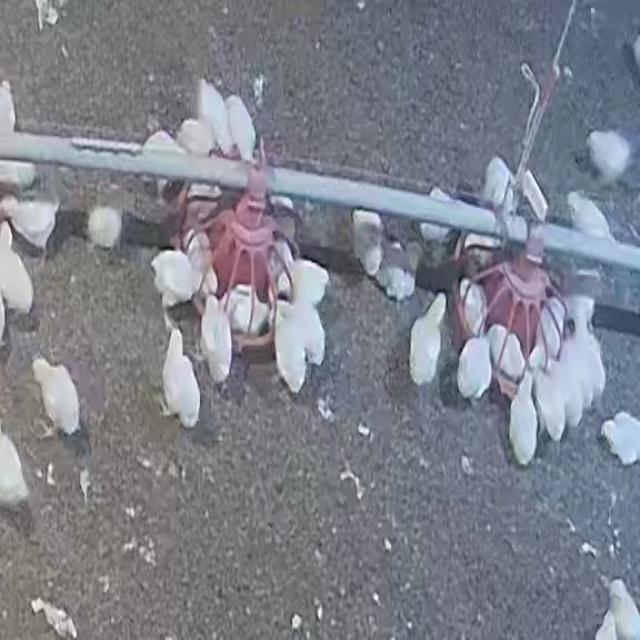chicken: (31, 357, 86, 440), (407, 292, 449, 392), (274, 297, 334, 365), (158, 333, 200, 428), (3, 185, 61, 252), (0, 223, 35, 316), (584, 126, 637, 186), (150, 248, 200, 309), (571, 315, 609, 395), (508, 371, 539, 466), (264, 320, 307, 387), (0, 417, 31, 507), (594, 580, 640, 640), (375, 234, 415, 302), (202, 299, 234, 382), (140, 129, 184, 189), (197, 80, 232, 152), (566, 192, 616, 242), (534, 360, 565, 440), (561, 344, 592, 419), (426, 186, 467, 242), (456, 338, 493, 400), (351, 211, 384, 277), (600, 411, 640, 465), (226, 96, 258, 160), (290, 258, 331, 306), (482, 156, 514, 215), (228, 288, 266, 334), (494, 329, 526, 382), (87, 204, 123, 249), (536, 302, 561, 364), (176, 118, 215, 156), (461, 283, 485, 335), (0, 83, 17, 139)
